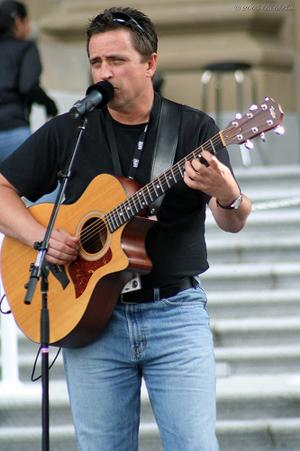person: (2, 6, 252, 450)
